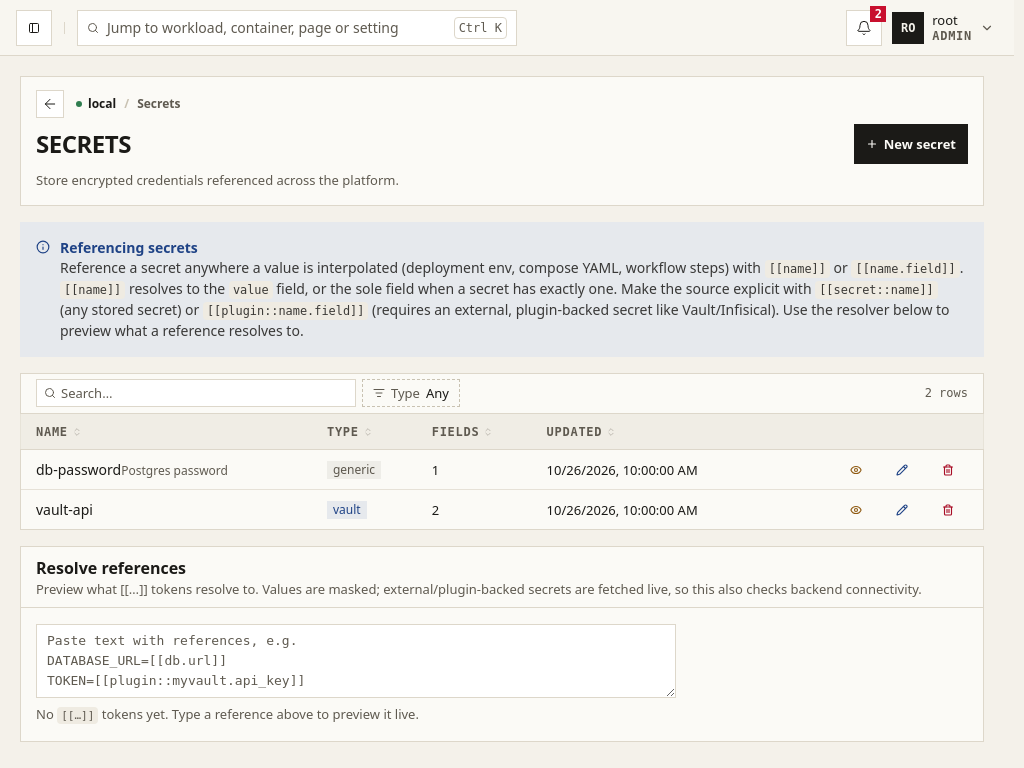
Test: secrets page › reveals decrypted values
Click the button named "Reveal db-password": (856, 470) [836,450,876,490]
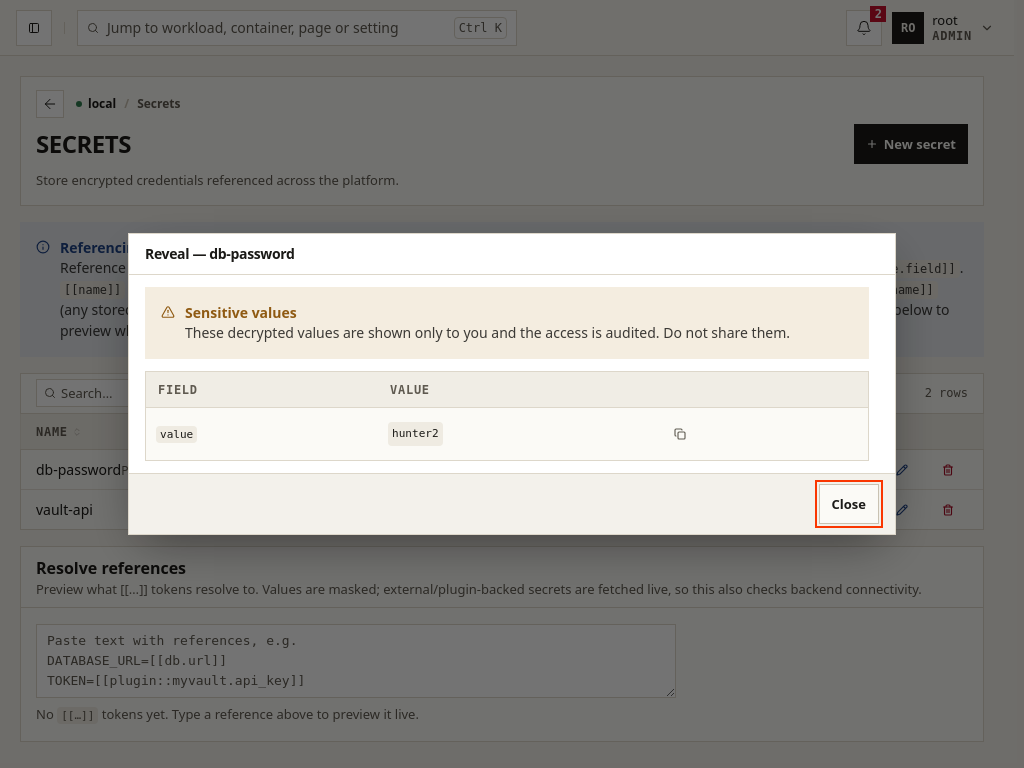
Expected: the text "value" is shown, [156,426,197,443]
Click the button "Close": (849, 504) [819,484,879,524]
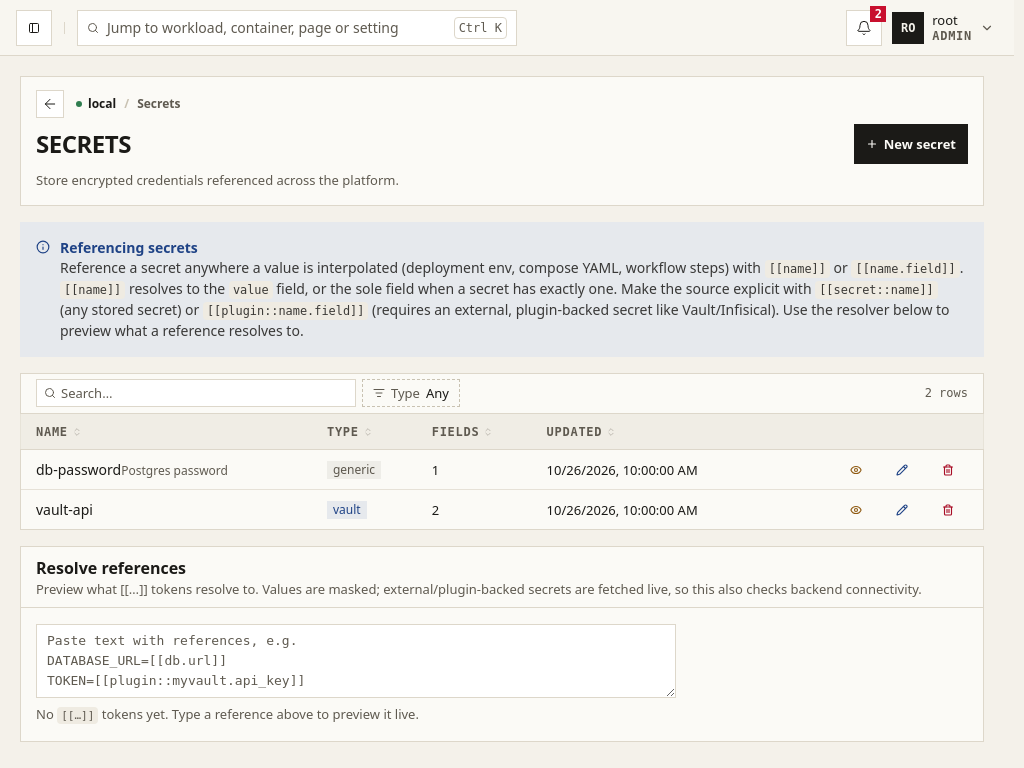
Expected: the dialog is gone
